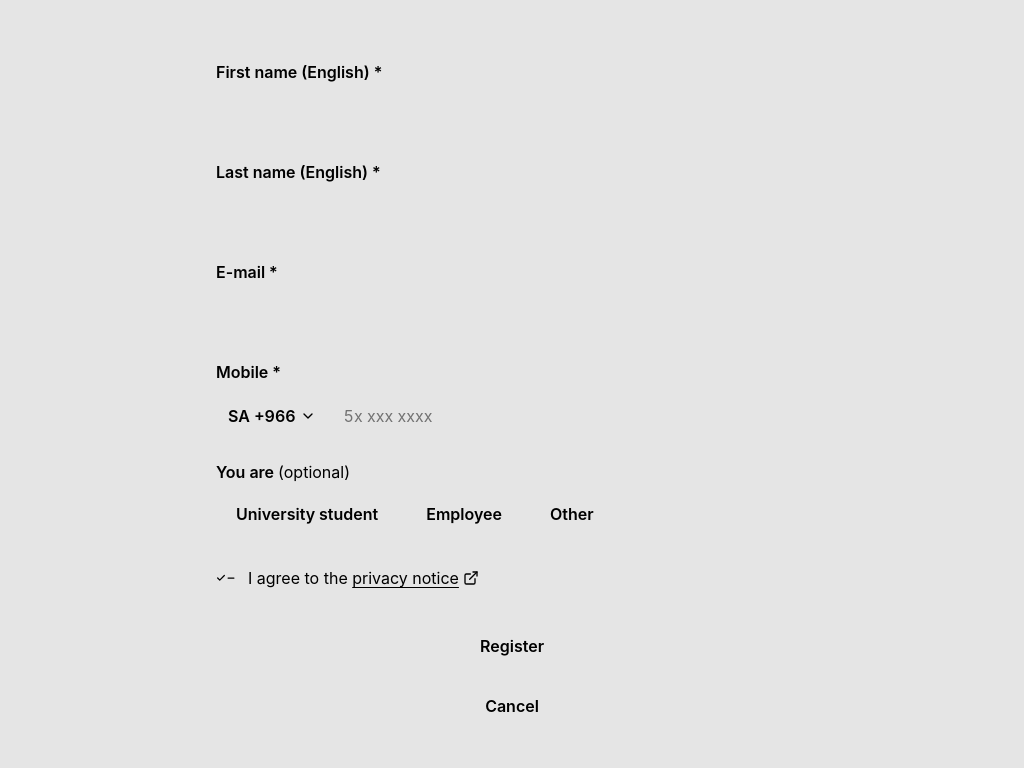
Scenario: registration dialog › T6: invalid fields show errors at once and send nothing
The width and height of the screenshot is (1024, 768).
(page scrolled)
Click the button "Register" at (512, 646), box [216, 620, 808, 672]
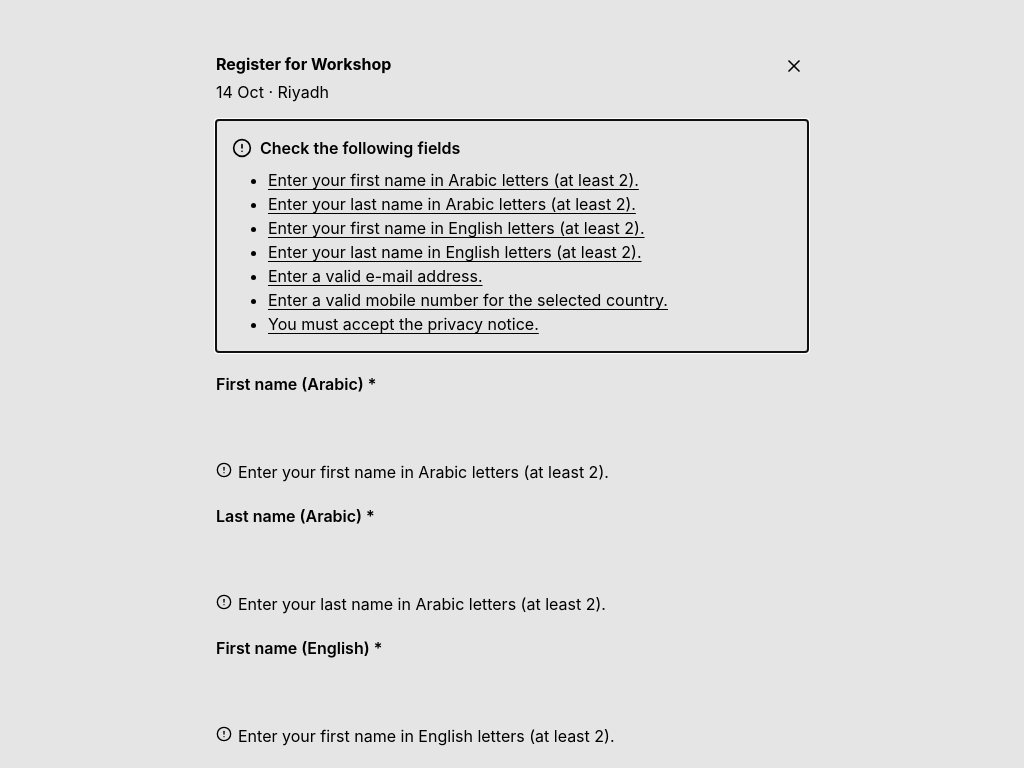
Check: the link "Enter your first name in Arabic letters (at least 2)." is shown, box [268, 170, 639, 190]
Check: the link "Enter your first name in English letters (at least 2)." is shown, box [268, 218, 644, 238]
Check: the link "Enter a valid mobile number for the selected country." is shown, box [268, 290, 668, 310]
